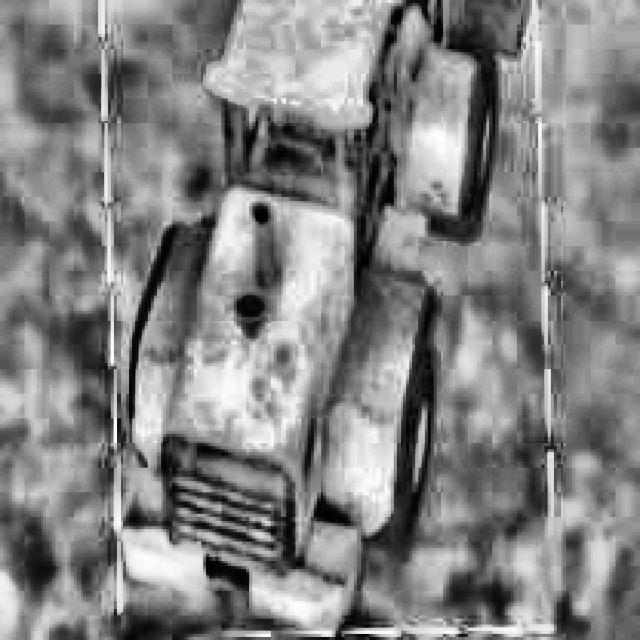buldozerpayloadergrader: (120, 0, 535, 625)
